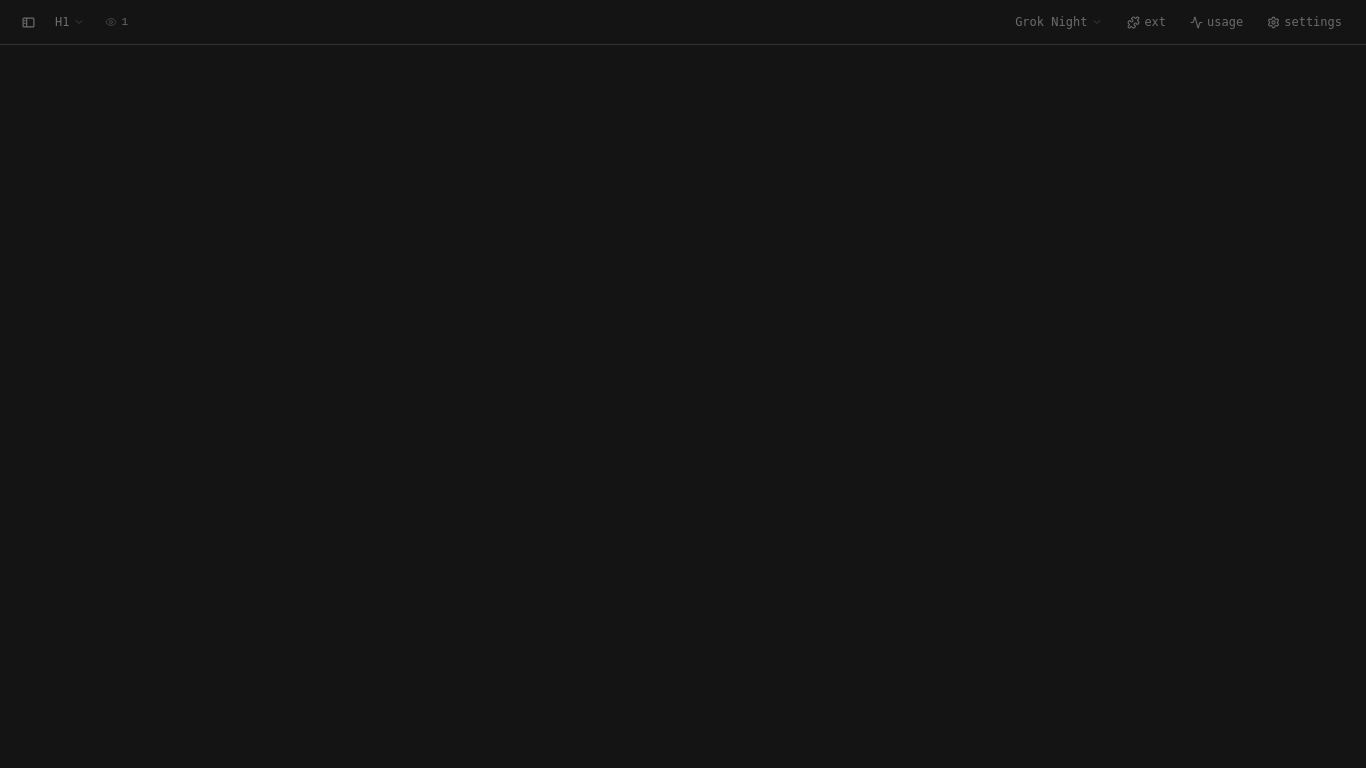
Test: TopBar › 点订阅数打开详情面板（逐行列出订阅者）
Click the button titled "FE 在线订阅" at (117, 22), box [100, 6, 134, 38]
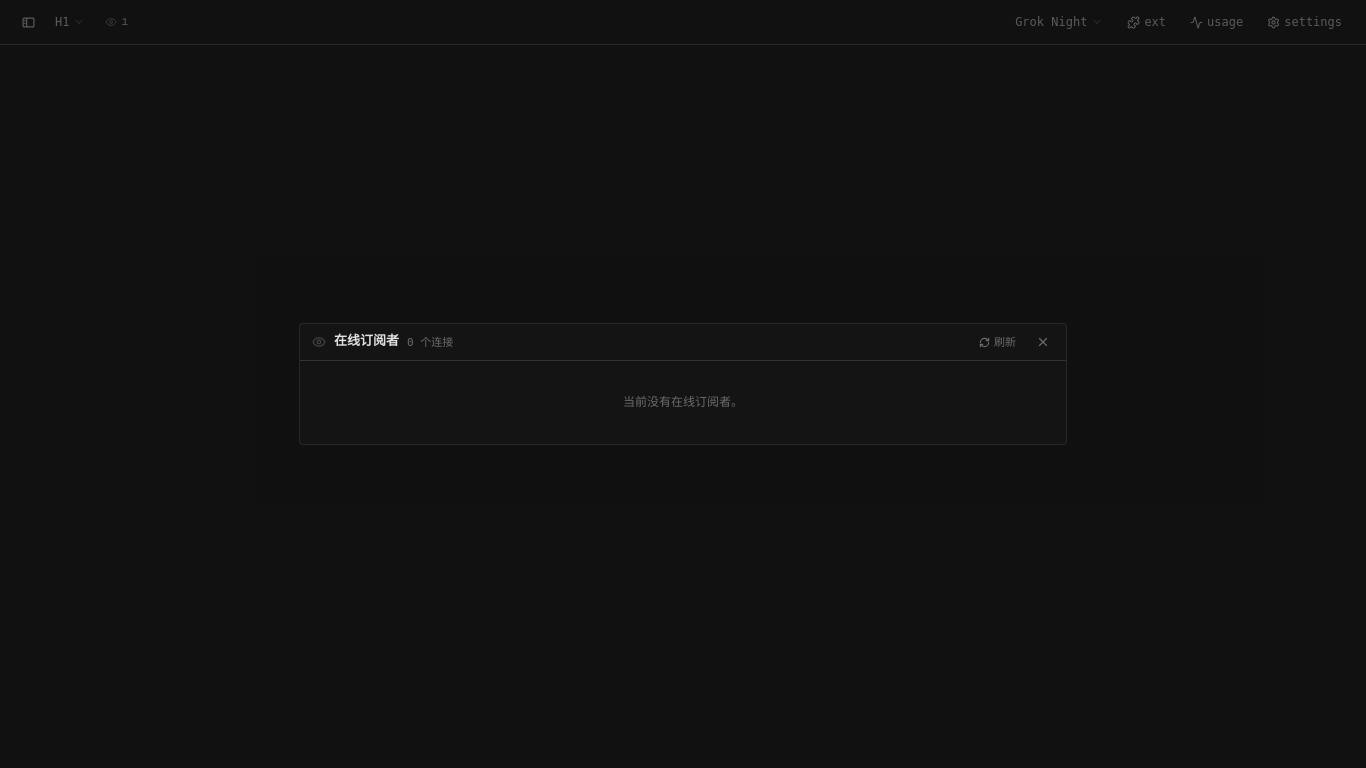
Now the text "在线订阅者" is shown, box [334, 332, 399, 352]
Press Escape
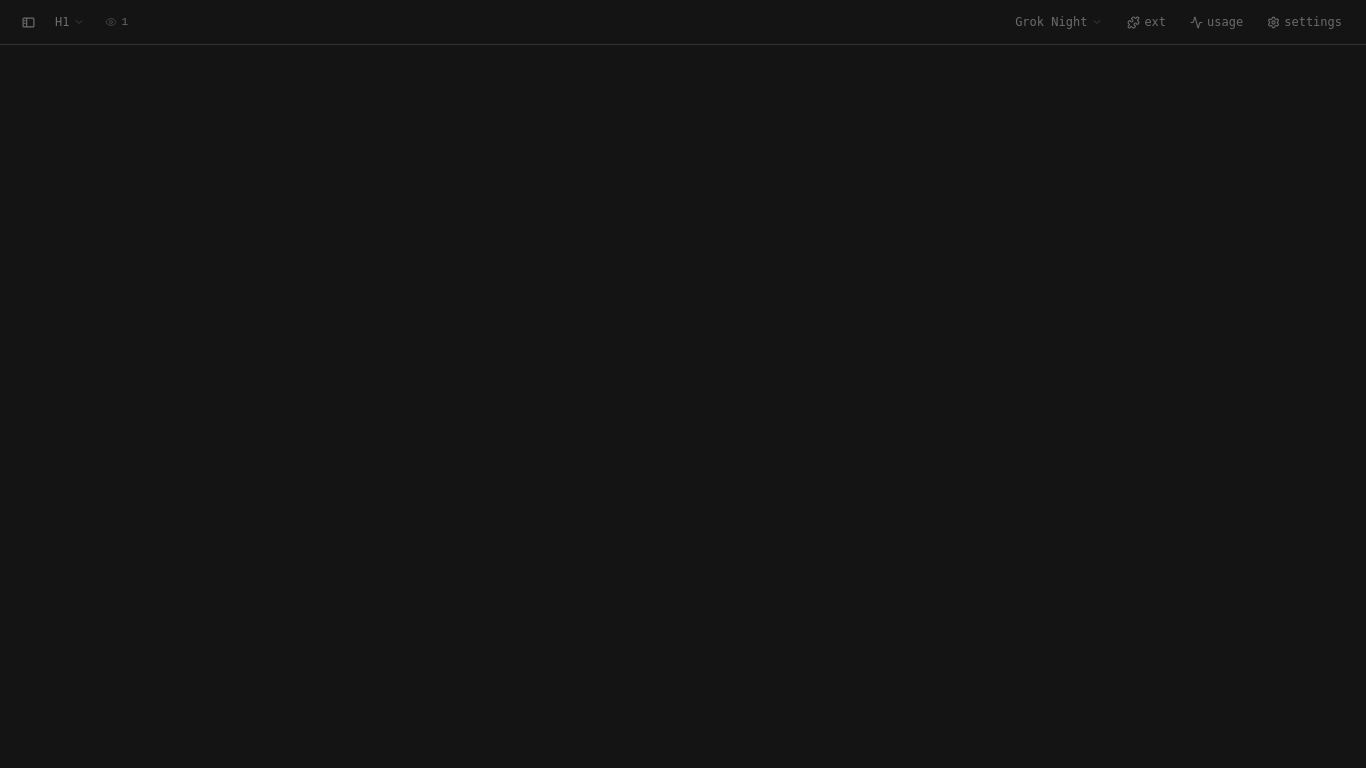
Now the text "在线订阅者" is gone
